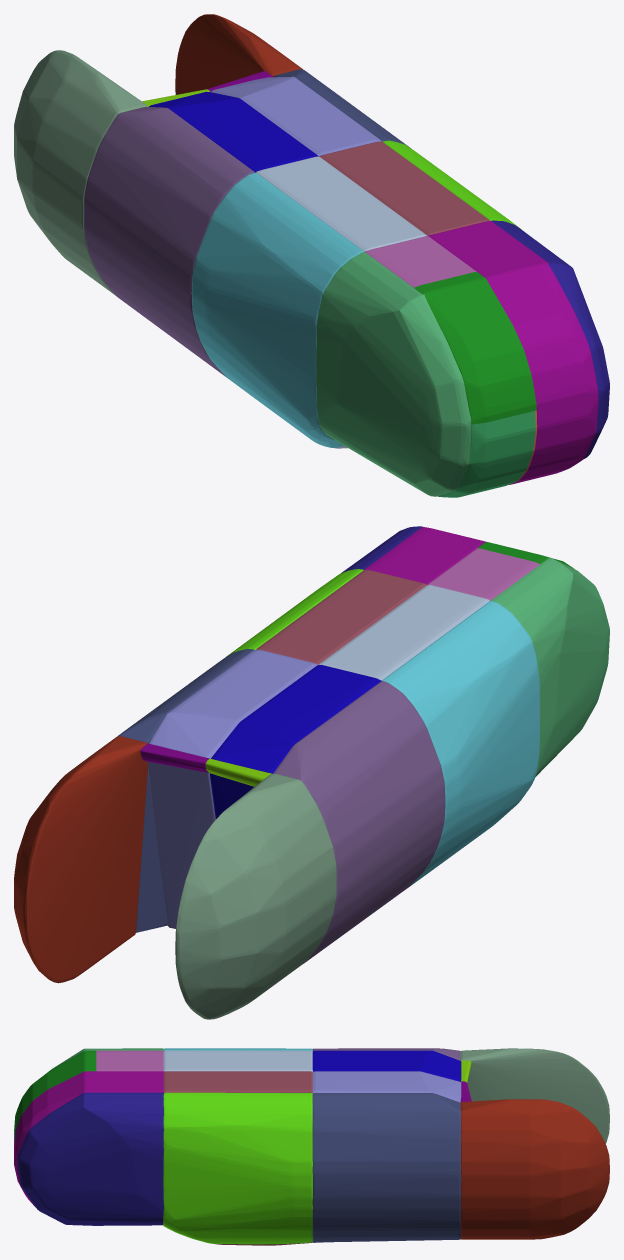
File: f_proximal_split.obj
3 views of the same model, one above another, from view 1: azimuth 30°, elevation 25°; view 2: azimuth 150°, elevation 25°; view 3: azimuth 270°, elevation 25° (orthographic). The views are drawn at different scales.
Visible parts, largest first — view 1: geometry_3, geometry_2, geometry_1, geometry_14, geometry_0, geometry_8, geometry_6, geometry_13, geometry_15, geometry_12, geometry_5, geometry_10 (+4 smaller); view 2: geometry_0, geometry_1, geometry_15, geometry_2, geometry_12, geometry_3, geometry_5, geometry_6, geometry_13, geometry_16, geometry_14, geometry_7 (+4 smaller); view 3: geometry_17, geometry_16, geometry_15, geometry_18, geometry_0, geometry_14, geometry_13, geometry_5, geometry_6, geometry_12, geometry_8, geometry_7 (+3 smaller).
Boxes of the visible parts, x1,y1,x2,y2 form: geometry_3: (316, 252, 471, 496); geometry_2: (191, 172, 363, 447); geometry_1: (84, 106, 254, 377); geometry_14: (427, 221, 598, 484); geometry_0: (14, 50, 147, 295); geometry_8: (414, 272, 536, 424); geometry_6: (256, 156, 426, 448); geometry_13: (319, 141, 489, 235); geometry_15: (175, 14, 302, 94); geometry_12: (210, 76, 381, 156); geometry_5: (148, 91, 318, 172); geometry_10: (438, 411, 535, 497); geometry_0: (175, 773, 336, 1019); geometry_1: (273, 681, 445, 963); geometry_15: (14, 736, 147, 983); geometry_2: (382, 601, 539, 886); geometry_12: (147, 650, 317, 928); geometry_3: (491, 557, 609, 776); geometry_5: (210, 665, 381, 818); geometry_6: (319, 585, 489, 680); geometry_13: (256, 570, 426, 664); geometry_16: (117, 649, 254, 932); geometry_14: (364, 527, 486, 584); geometry_7: (428, 548, 539, 600); geometry_17: (163, 1092, 312, 1244); geometry_16: (312, 1093, 461, 1242); geometry_15: (460, 1099, 609, 1239); geometry_18: (17, 1092, 163, 1225); geometry_0: (460, 1048, 609, 1143); geometry_14: (14, 1071, 163, 1206); geometry_13: (163, 1071, 312, 1245); geometry_5: (312, 1050, 461, 1081); geometry_6: (163, 1050, 312, 1071); geometry_12: (312, 1071, 461, 1242); geometry_8: (15, 1050, 96, 1132); geometry_7: (96, 1050, 163, 1071).
Bounding box in the file's own units: 20.29 × 18.3 × 60.1.
